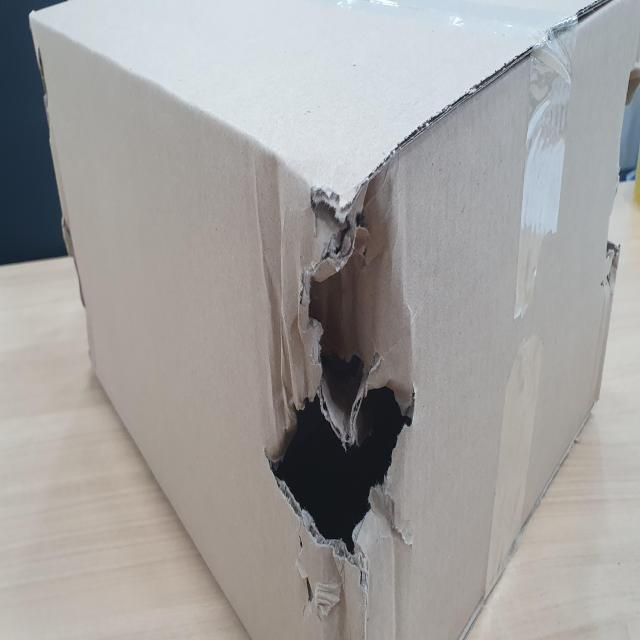damaged: (272, 163, 404, 541)
